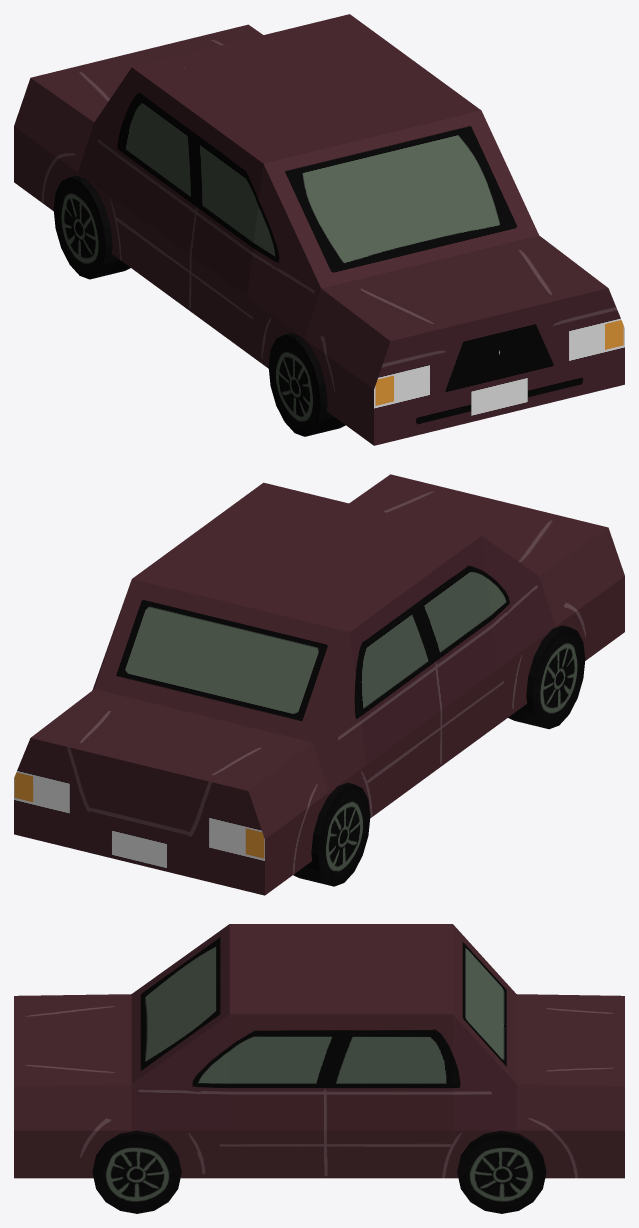
Rendered from Setan tax.fbx.
The picture shows the model from 3 angles, top to bottom: view 1: azimuth 30°, elevation 25°; view 2: azimuth 150°, elevation 25°; view 3: azimuth 270°, elevation 25°; orthographic projection. The views are drawn at different scales.
Visible parts, largest first — view 1: Body.001; view 2: Body.001; view 3: Body.001.
Boxes of the visible parts, <box> form: Body.001: <box>14,14,624,445</box>; Body.001: <box>14,474,624,895</box>; Body.001: <box>14,924,624,1213</box>.
Size of the model in its own units: 222 by 179 by 523.
